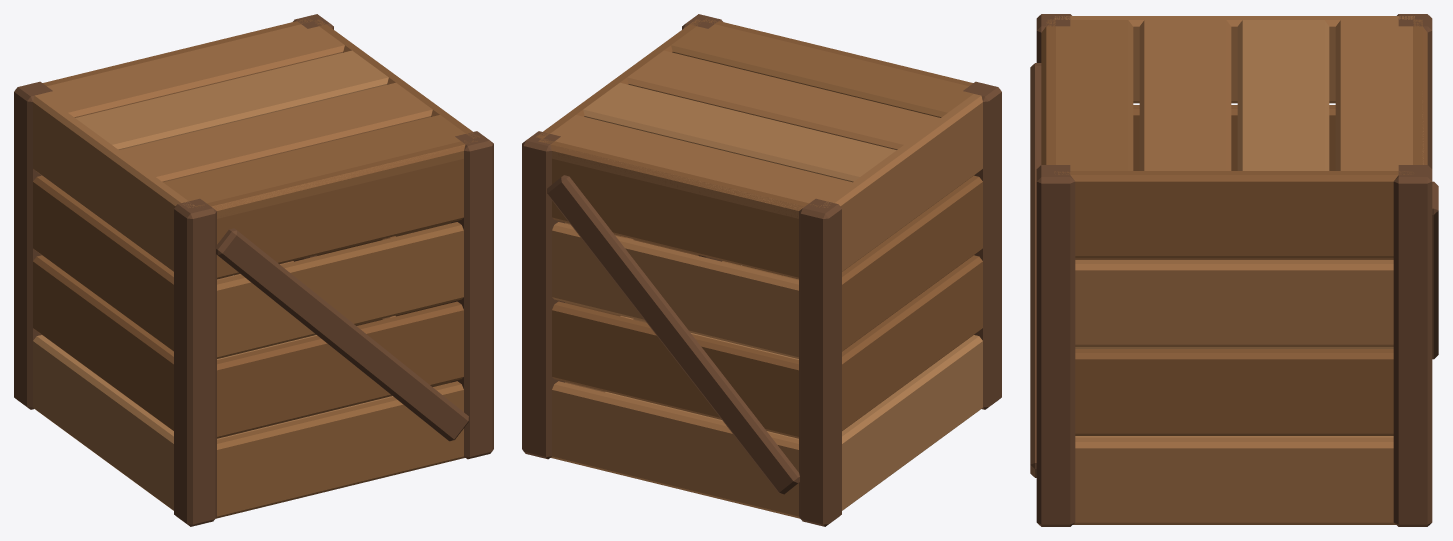
Rendered from crate.glb.
3 renders of one model, left to right at view 1: azimuth 30°, elevation 25°; view 2: azimuth 150°, elevation 25°; view 3: azimuth 270°, elevation 25°, orthographic. The views are drawn at different scales.
Parts seen in each view (by area): view 1: Wood, Frame; view 2: Wood, Frame; view 3: Wood, Frame.
Boxes of the visible parts, x1,y1,x2,y2 form: Wood: [33, 18, 479, 518]; Frame: [14, 14, 493, 526]; Wood: [536, 18, 982, 518]; Frame: [522, 14, 1001, 526]; Wood: [1041, 16, 1427, 524]; Frame: [1030, 14, 1438, 526].
Size of the model in its own units: 2.46 by 2.4 by 2.54.
2 materials, 2 textured.
